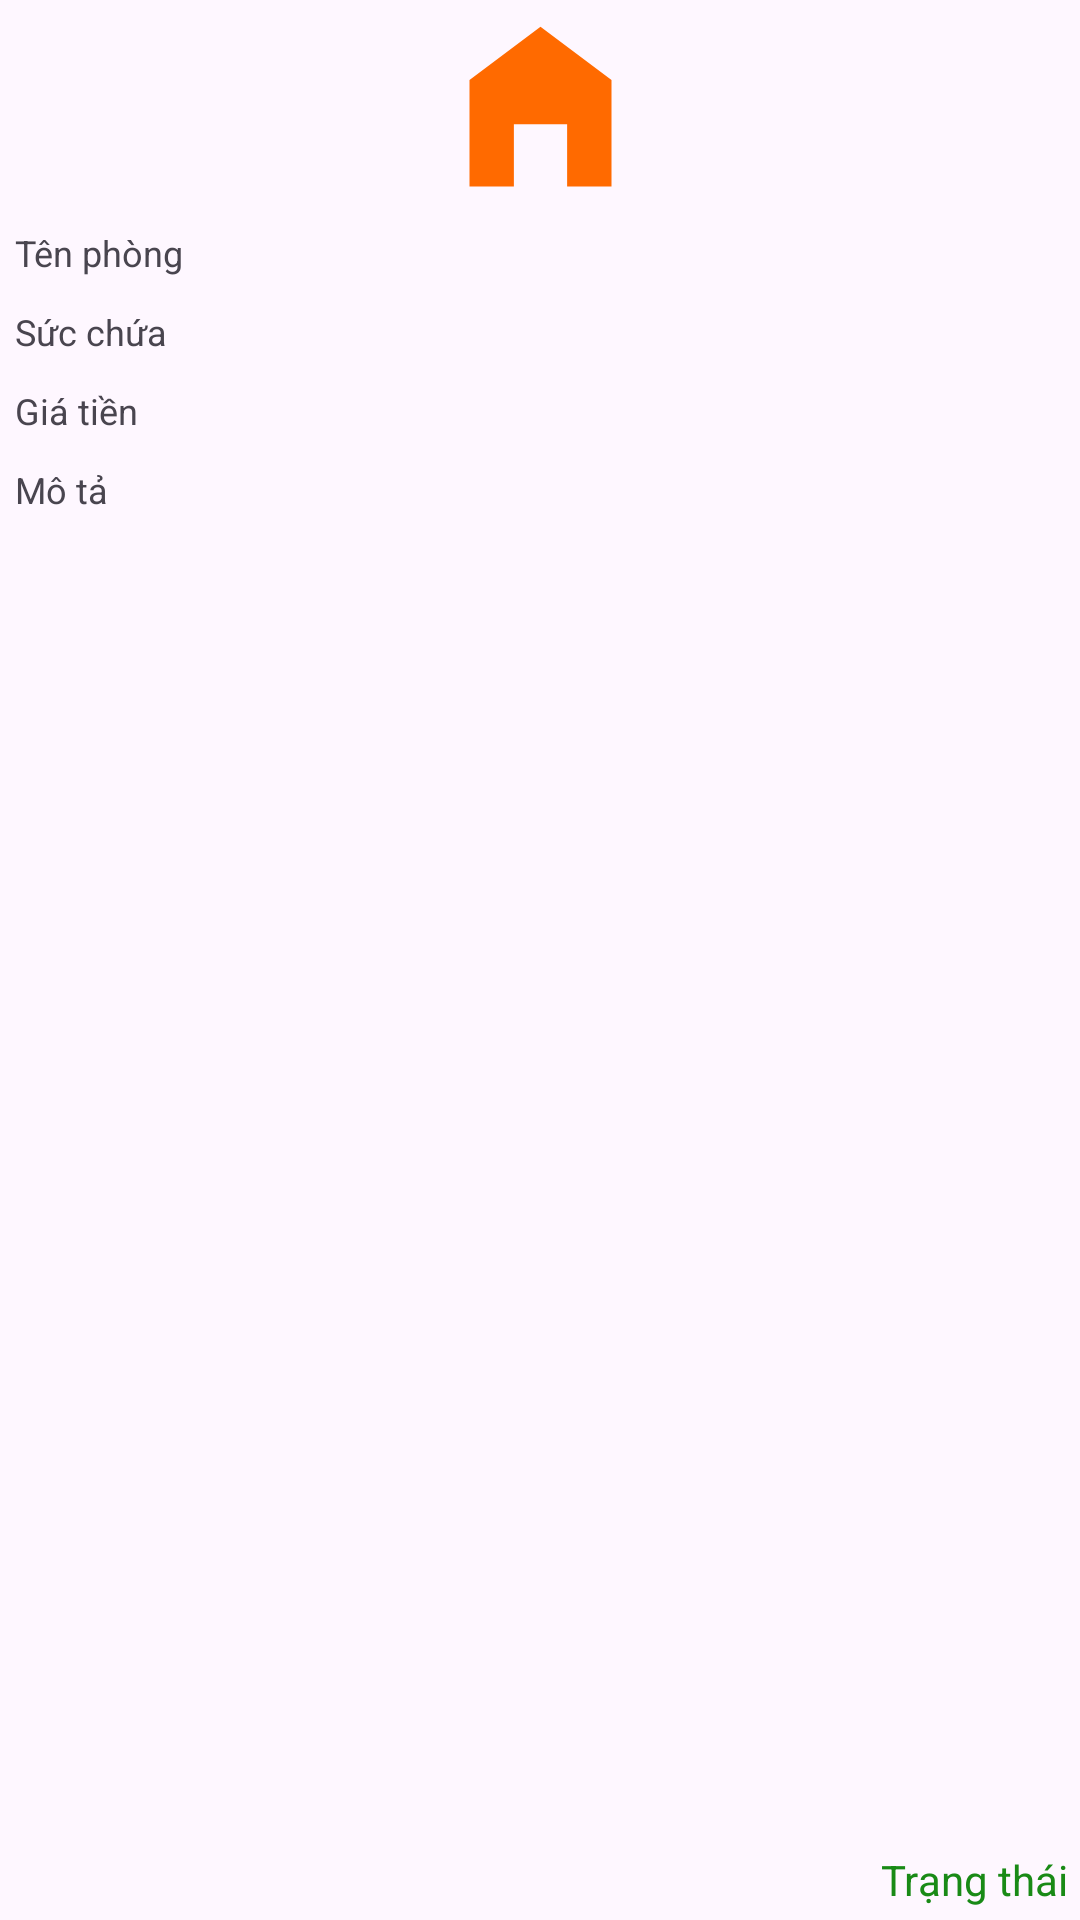

Icons on this 1080×1920 Android screen, each with the point to tap as [x,y]:
home: [540,107]
